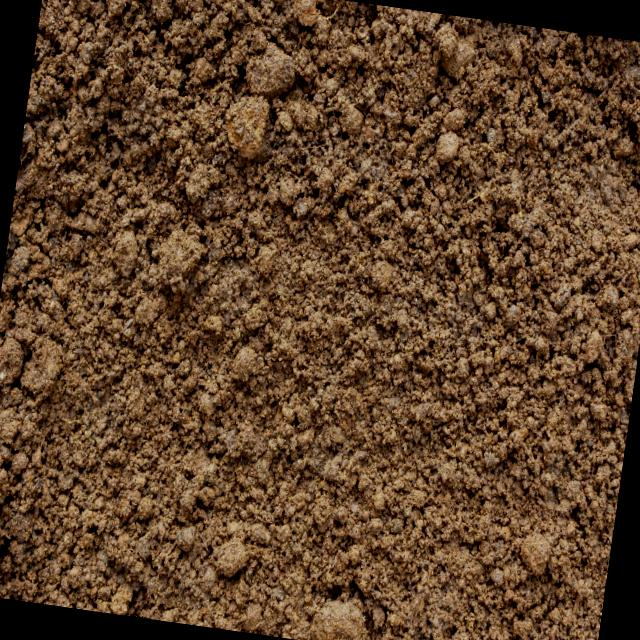suelo_seco: (167, 41, 520, 594)
